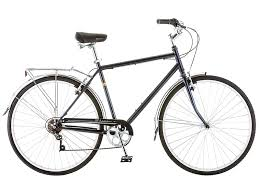bicycle: (3, 16, 256, 180)
